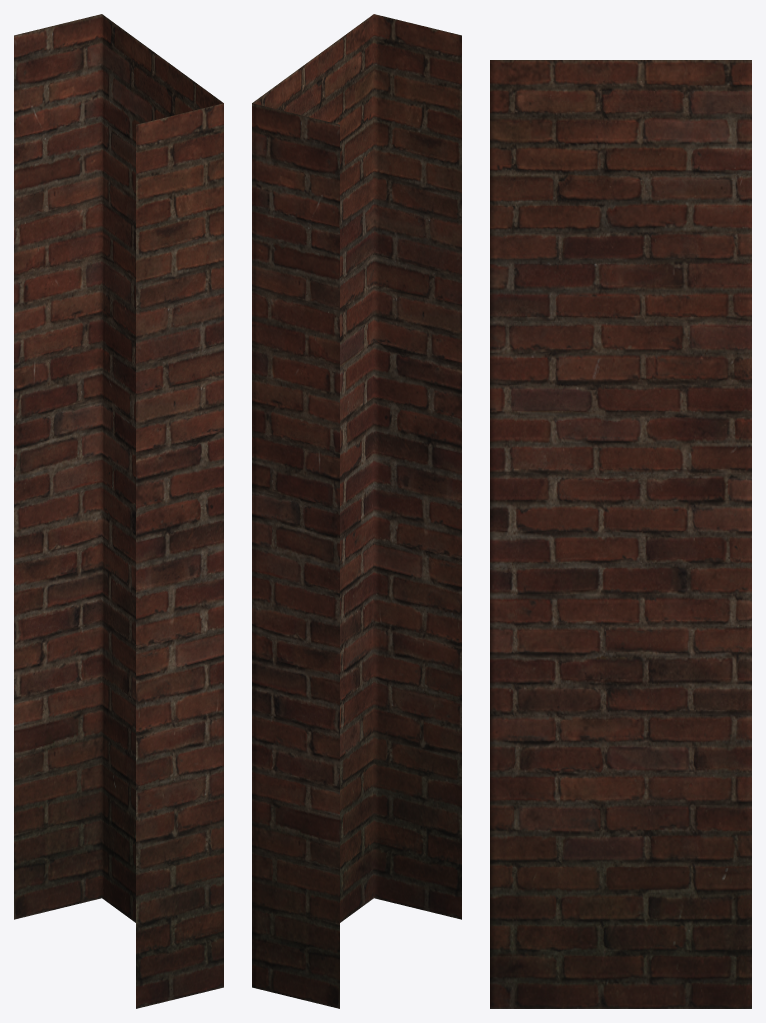
Rendered from wall_pillar_onesided.fbx.
3 renders of one model, left to right at view 1: azimuth 30°, elevation 25°; view 2: azimuth 150°, elevation 25°; view 3: azimuth 270°, elevation 25°, orthographic. The views are drawn at different scales.
Parts seen in each view (by area): view 1: wall_pillar_onesided; view 2: wall_pillar_onesided; view 3: wall_pillar_onesided.
Part boxes in pixels (left/top/right/bottom): wall_pillar_onesided: left=14, top=14, right=223, bottom=1008; wall_pillar_onesided: left=252, top=14, right=461, bottom=1008; wall_pillar_onesided: left=490, top=60, right=751, bottom=1008.
Bounding box in the file's own units: 0.2 × 1.92 × 0.48.
